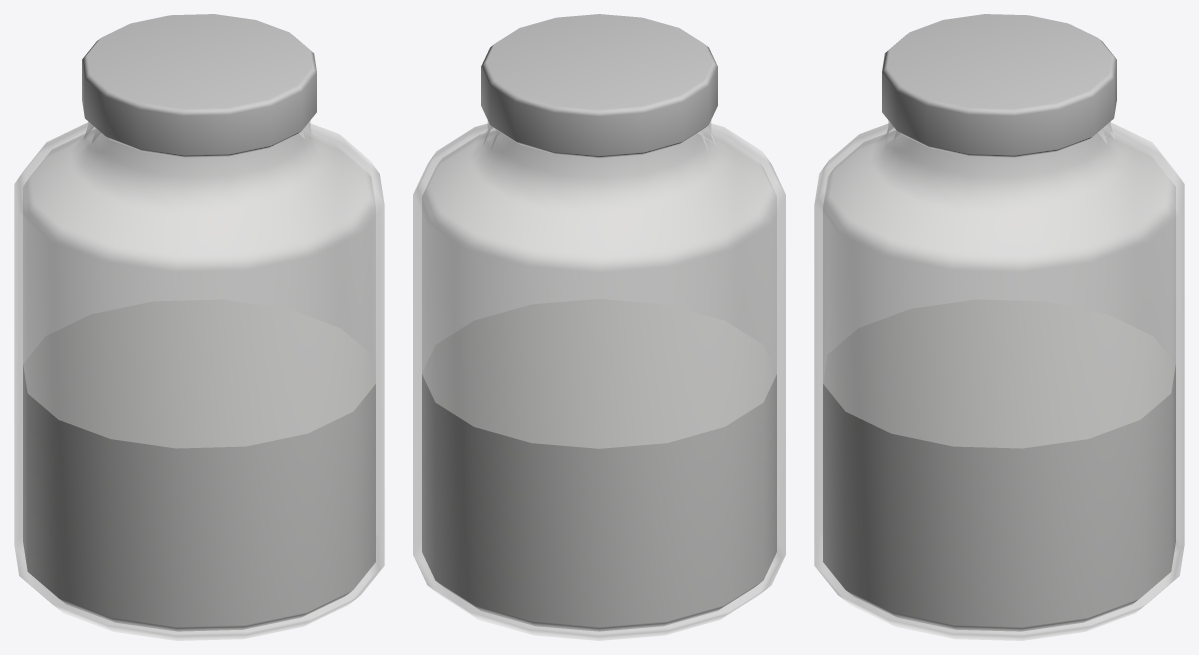
File: Bottle_24.fbx
3 renders of one model, left to right at view 1: azimuth 30°, elevation 25°; view 2: azimuth 150°, elevation 25°; view 3: azimuth 270°, elevation 25°, orthographic.
Parts seen in each view (by area): view 1: Bottle_24; view 2: Bottle_24; view 3: Bottle_24.
Part boxes in pixels (<box>): Bottle_24: <box>14,14,384,640</box>; Bottle_24: <box>413,14,785,640</box>; Bottle_24: <box>814,14,1184,640</box>.
Bounding box in the file's own units: 21.41 × 32.4 × 21.41.
